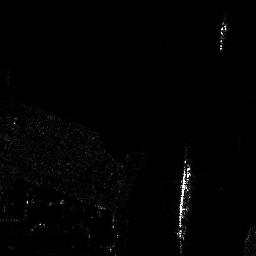ship: (177, 161, 193, 239), (218, 21, 226, 52)
